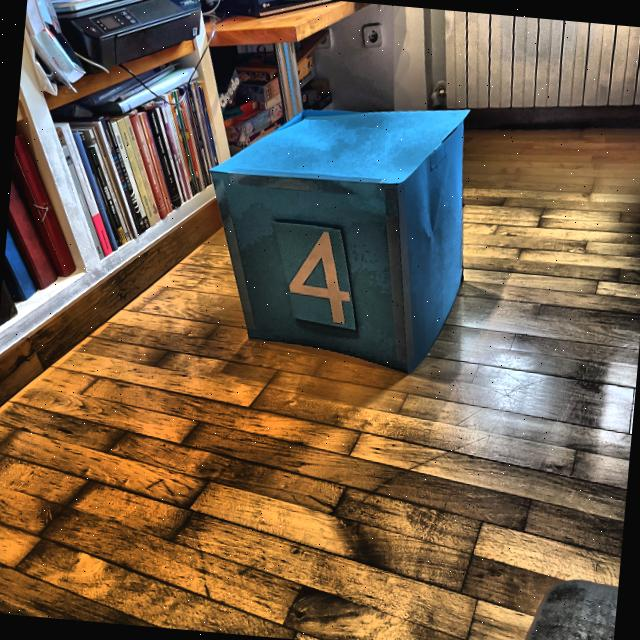blue box: (192, 85, 480, 378)
four: (281, 227, 362, 328)
